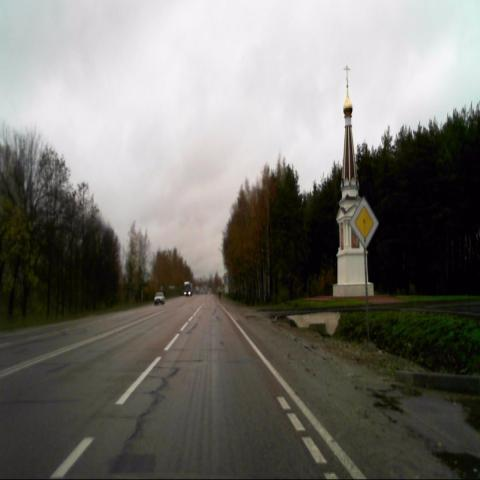2_1: (350, 198, 379, 250)
